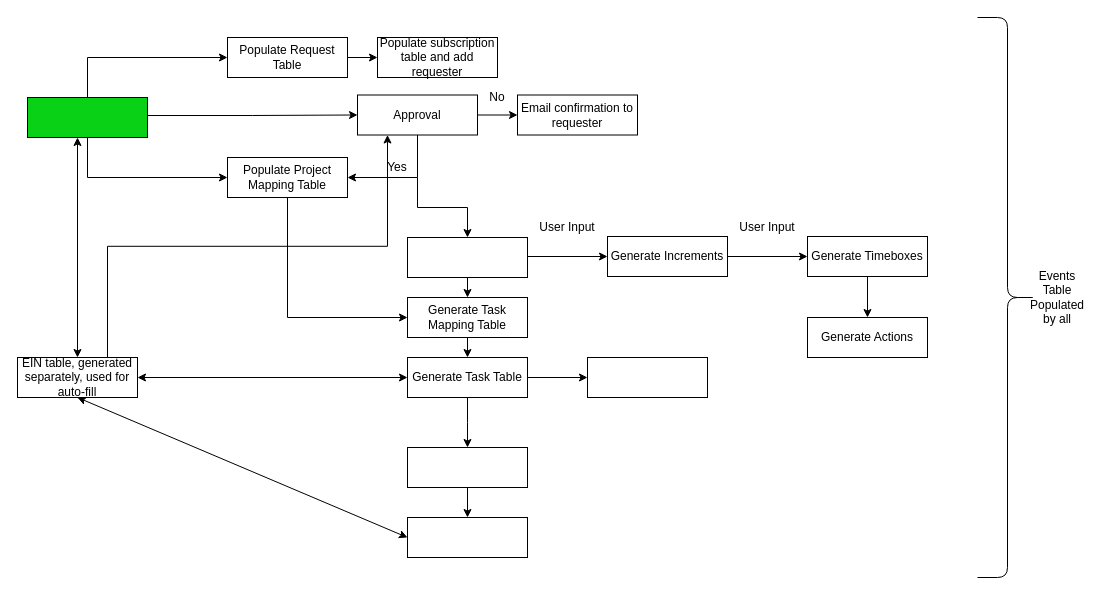
This 1102x595 diagram has some shape labels left out. The centre of each missing label's shape, as x and y in pixels:
Generate Attachment Table: the point at 647,377
Generate Comment Mapping: the point at 467,467
Generate Comment Table: the point at 467,537
Generate Project Table: the point at 467,257
Request: the point at 87,117
